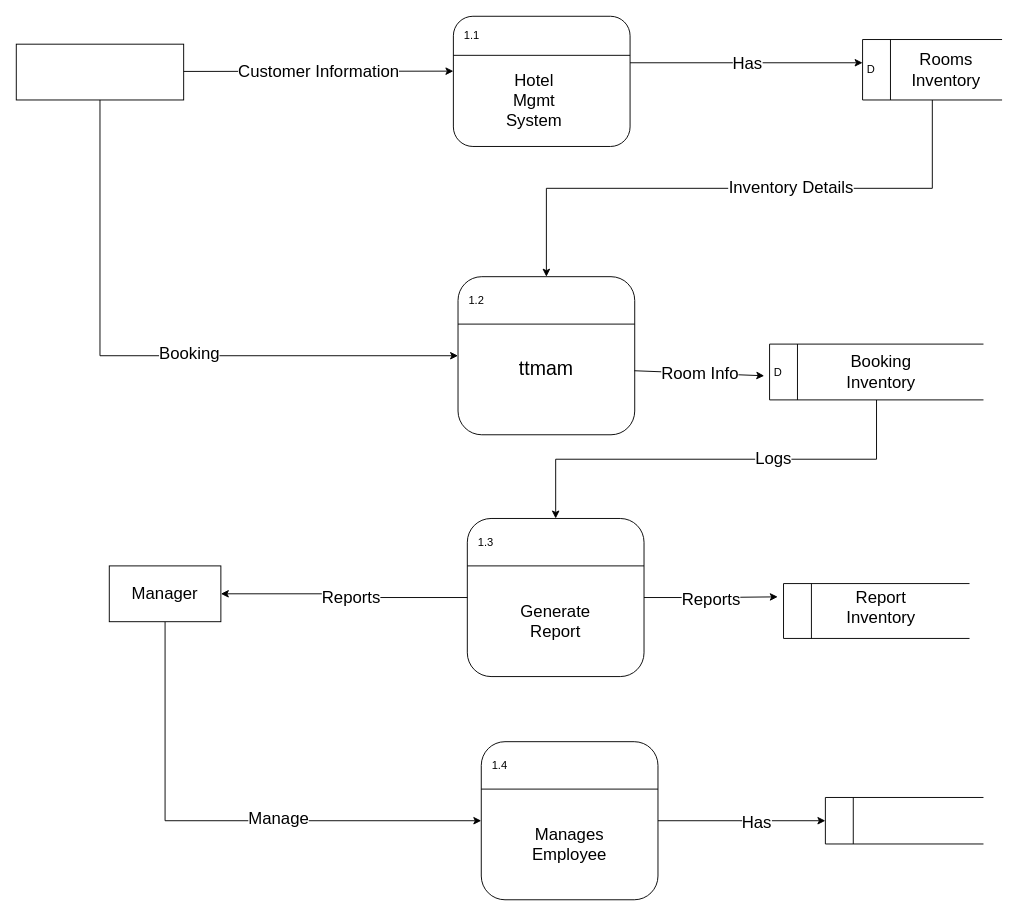
Some shapes in this 1018 by 916 pixel diagram are drawn without their labels. The shapes that lost their labels are listed below. From the top down, each one's centre as x and y in pixels, then its label:
pixel 99 71: Customer
pixel 903 820: Employee Inventory
